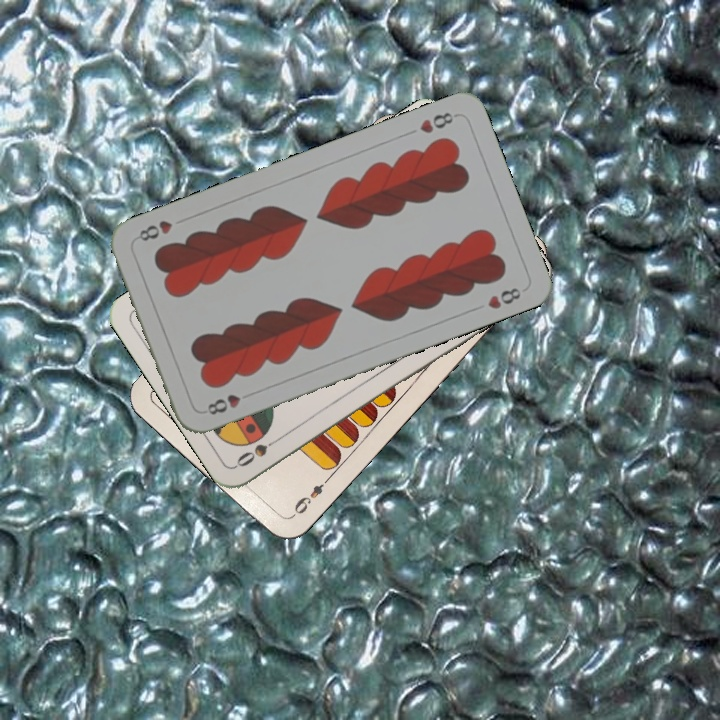E9: (287, 473, 333, 520)
H8: (415, 108, 460, 136), (203, 390, 244, 418)
SO: (232, 431, 286, 470)
